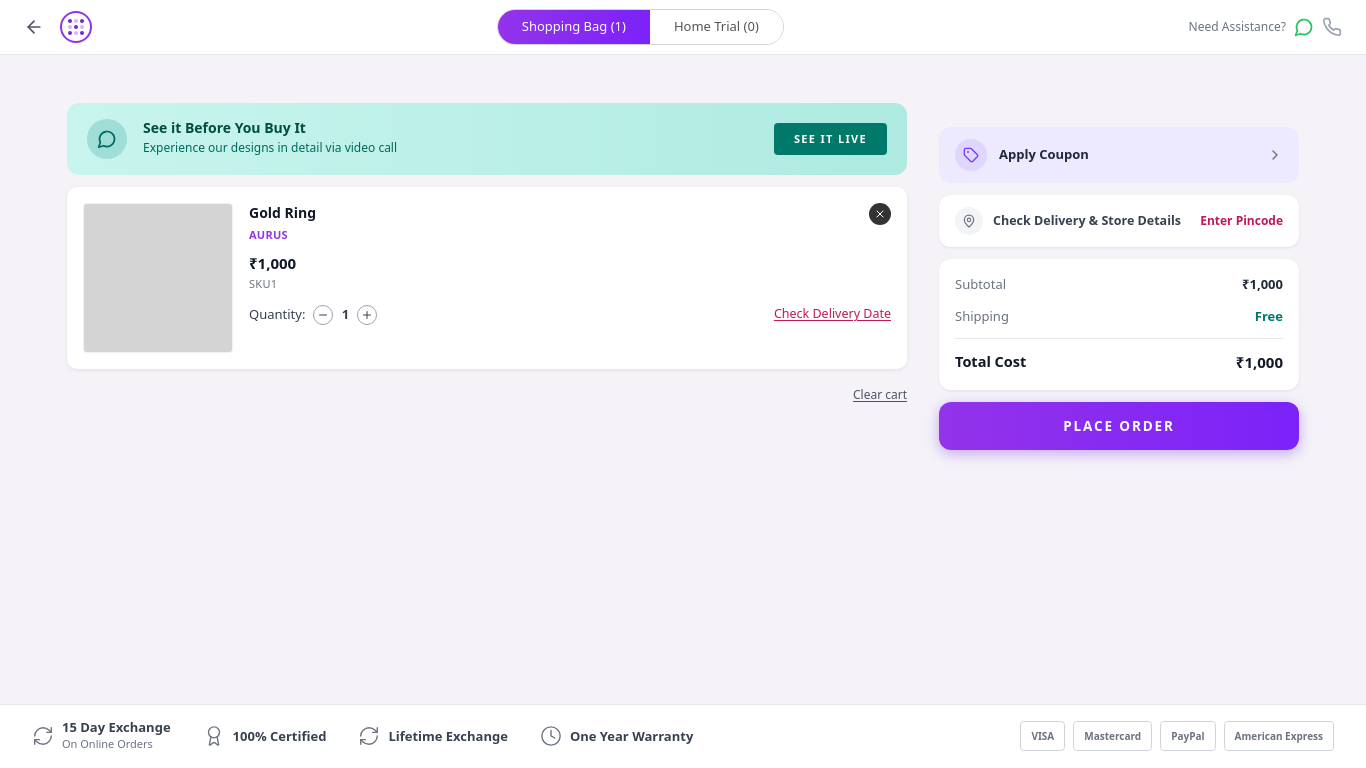
Test: AurusCart — optional account prompt before checkout › shows the prompt to a guest instead of navigating straight to checkout
The image size is (1366, 768).
What coordinates should you click on to do the following:
click the link "PLACE ORDER"
I would click on:
 (1119, 426)
Its box is [939,402,1299,450].
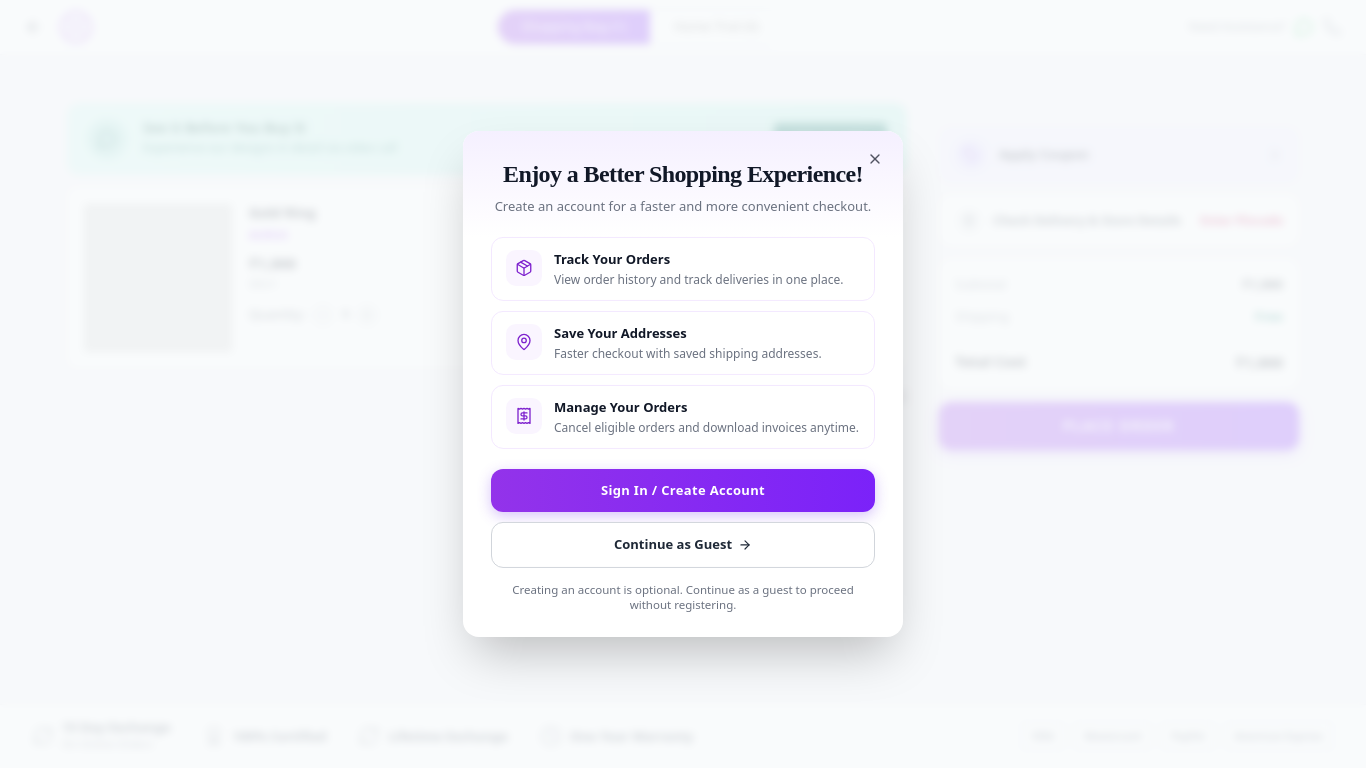
Now the dialog "Enjoy a Better Shopping Experience!" is shown, box [463,131,903,637]
